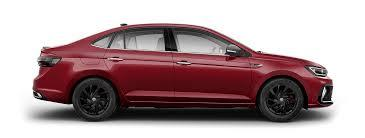car: (28, 24, 343, 126)
